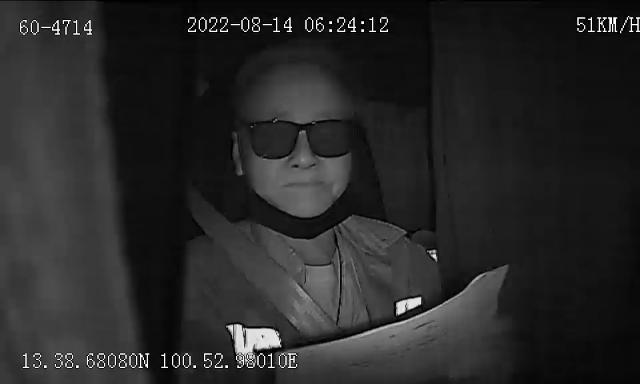Seatbelt: (180, 183, 346, 347)
